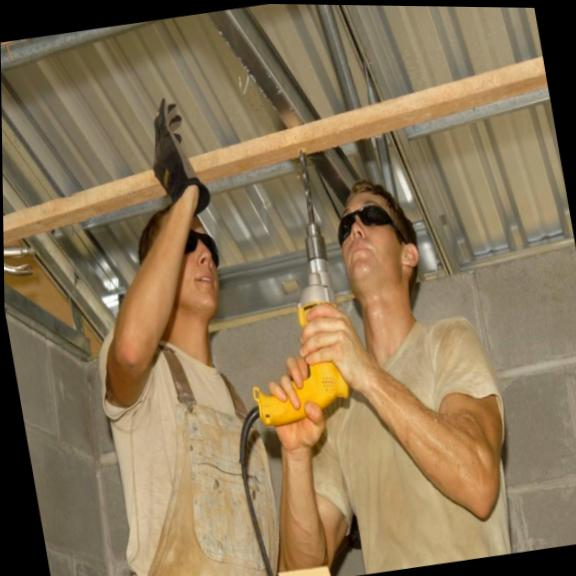no_safety_vest: (280, 305, 528, 576), (87, 305, 296, 576)
